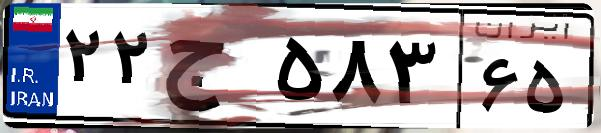2: (57, 26, 110, 100), (110, 28, 158, 98)
3: (385, 28, 445, 110)
5: (270, 28, 330, 110), (525, 38, 570, 115)
6: (475, 38, 525, 113)
8: (330, 28, 385, 110)
ج: (158, 20, 270, 120)
